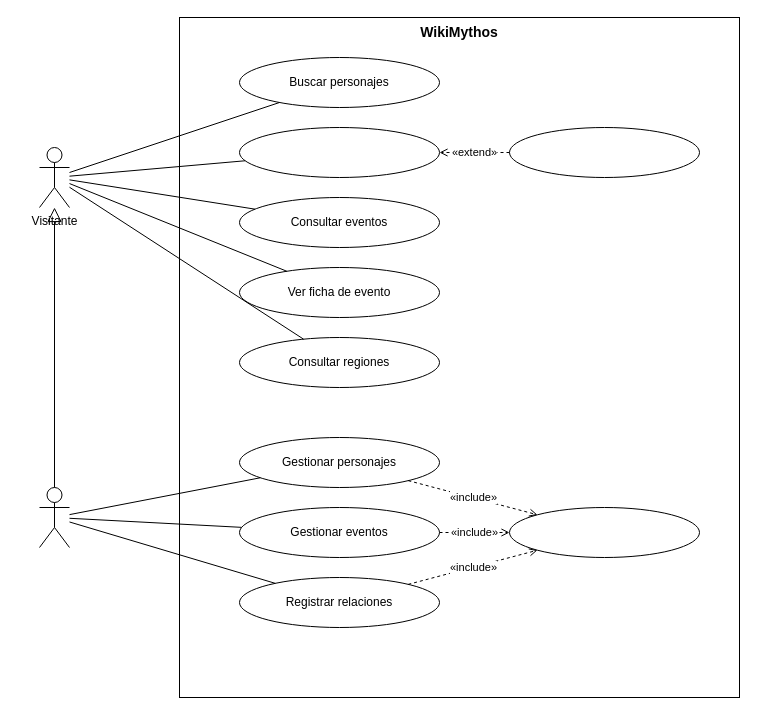
Image size: 757x715. Some labels were removed from this diagram. Each missing label, with the centre of its shape:
"Activar modo administrador" goes at [604,532].
"Administrador" goes at [54,517].
"Ver ficha de personaje" goes at [339,152].
"Ver árbol genealógico" goes at [604,152].
